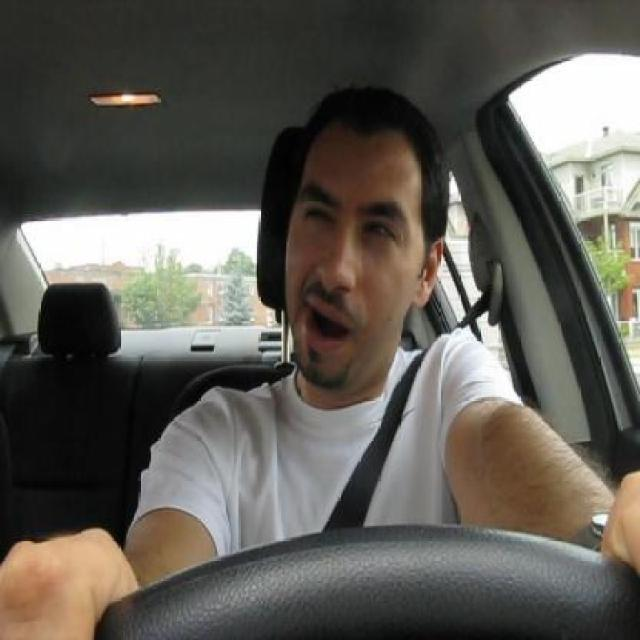awake: (360, 208, 395, 252)
drowsy: (304, 198, 336, 234)
